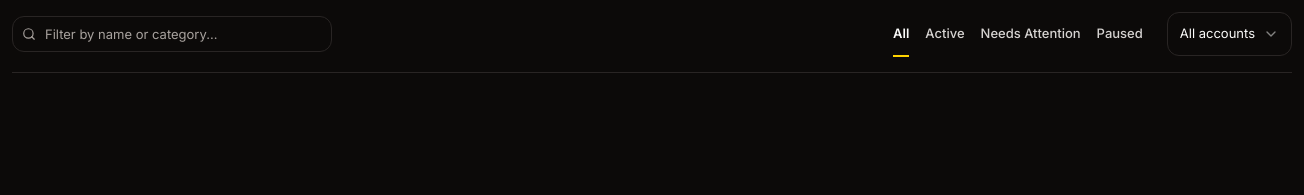
Test: Add Page edges › R16: two accounts sharing a display name stay two filter options
Click the dropdown with test id "pages-account-filter". click: x=1229, y=34
box: [1167, 12, 1292, 56]
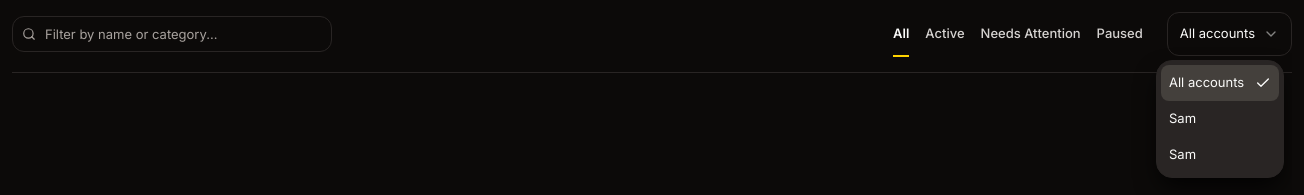
Expected: the number of options "Sam" is 2, [1169, 110, 1196, 126]; [1169, 146, 1196, 162]
